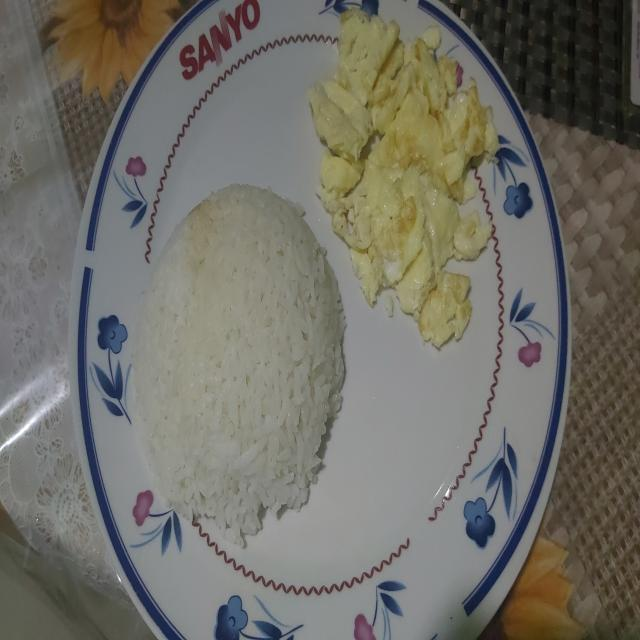Chicken -Chicken Inasal-: (136, 179, 344, 532)
